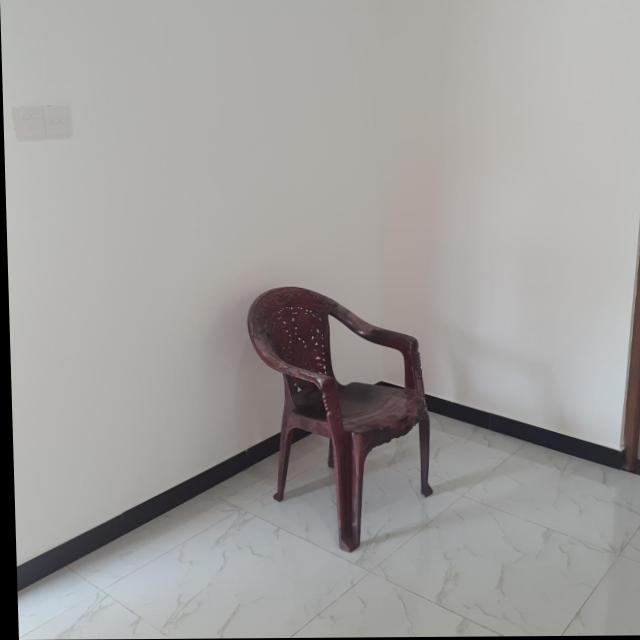Chair: (244, 285, 431, 553)
